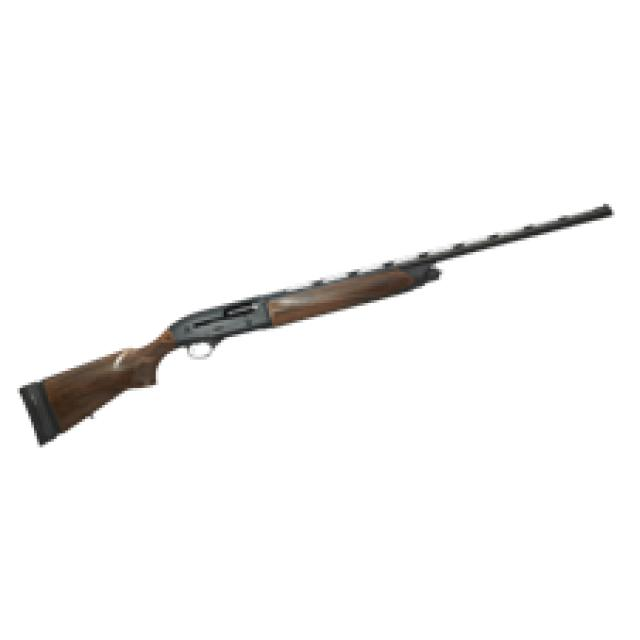rifle: (19, 200, 625, 456)
